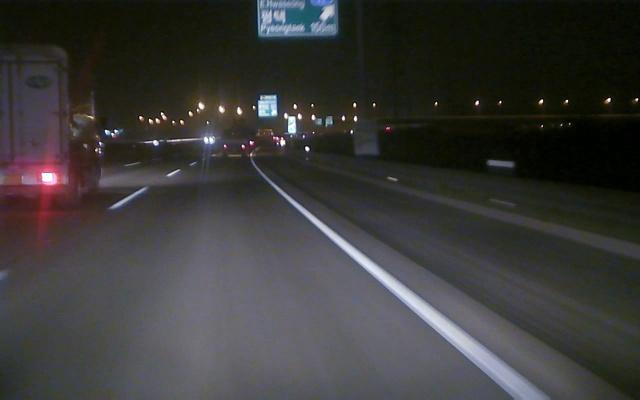lane: (263, 177, 550, 398), (106, 169, 178, 210)
